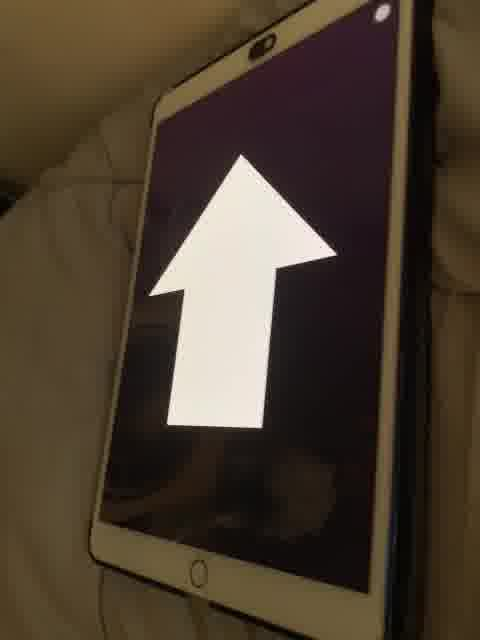up: (146, 149, 337, 433)
